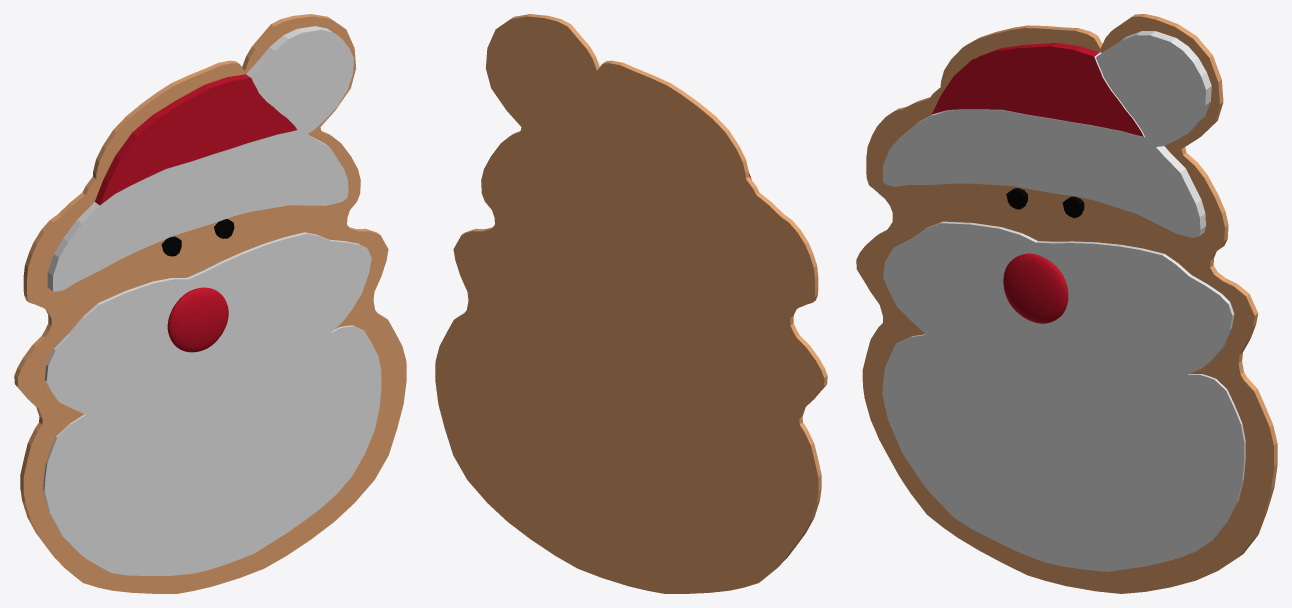
Rendered from SantaClaus.glb.
The picture shows the model from 3 angles, left to right: view 1: azimuth 30°, elevation 25°; view 2: azimuth 150°, elevation 25°; view 3: azimuth 330°, elevation 25°; orthographic projection. The views are drawn at different scales.
Parts seen in each view (by area): view 1: SantaClaus; view 2: SantaClaus; view 3: SantaClaus.
Part boxes in pixels (x1,y1,x2,y2): SantaClaus: (14,14,406,593); SantaClaus: (435,14,827,593); SantaClaus: (856,14,1277,593).
Size of the model in its own units: 0.34 by 0.4574 by 0.0217.
